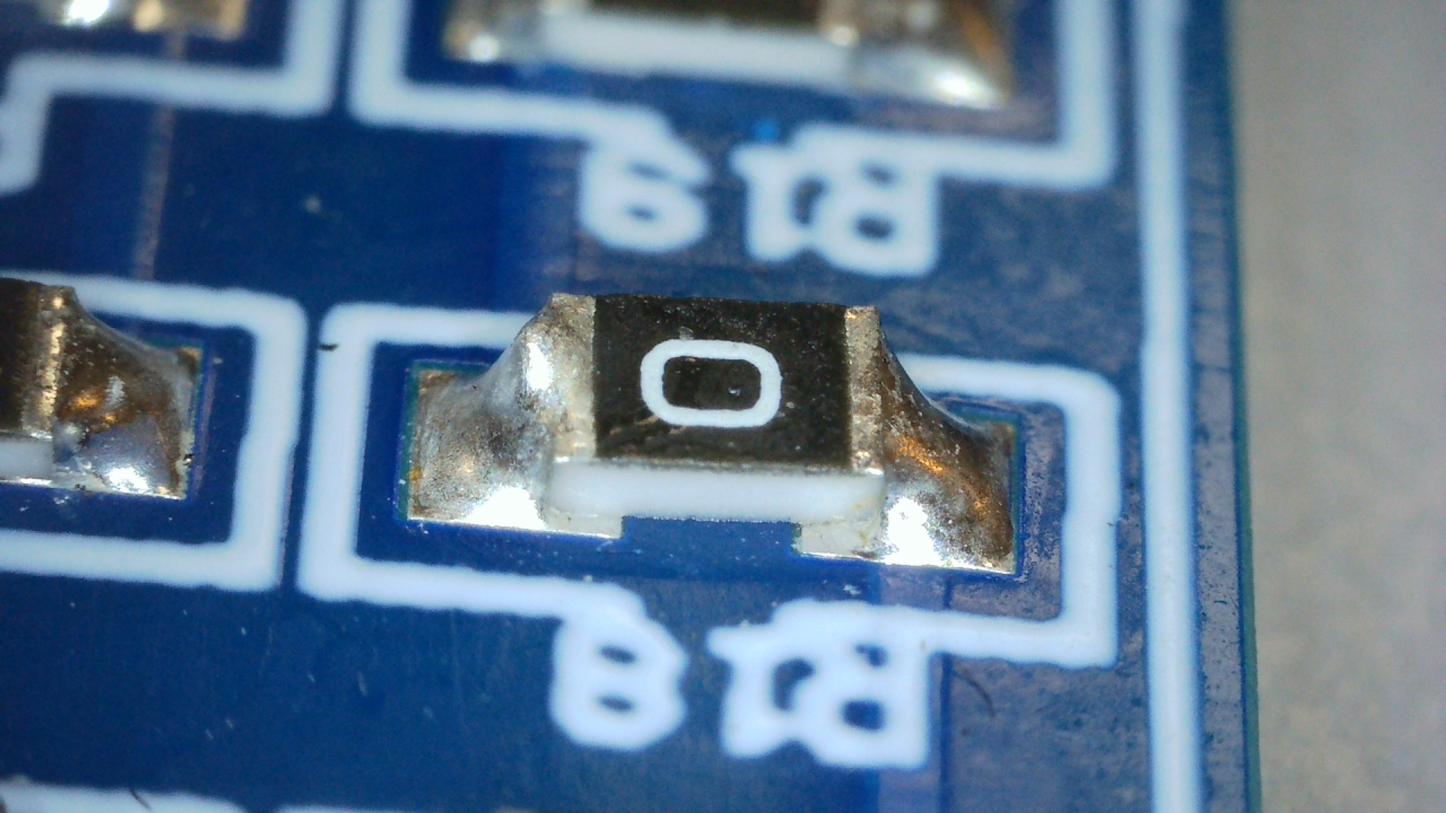NG: (416, 295, 593, 522)
OK: (850, 307, 1013, 564)
